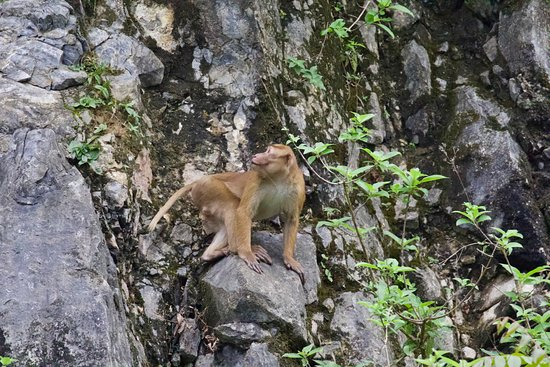monkey: (147, 141, 316, 275)
